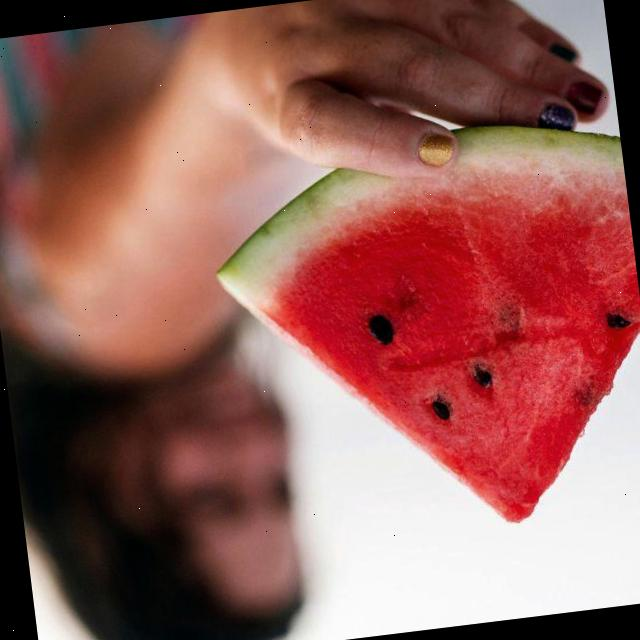watermelon: (221, 140, 640, 548)
